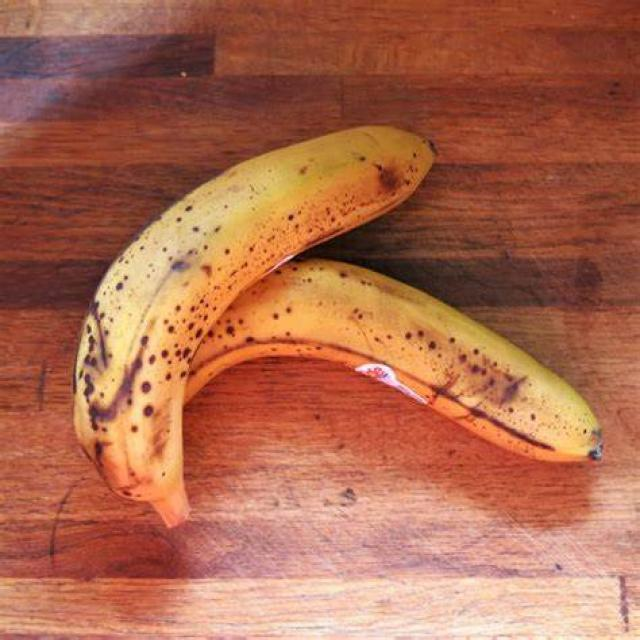Banana: (70, 125, 443, 529), (186, 258, 608, 462)
